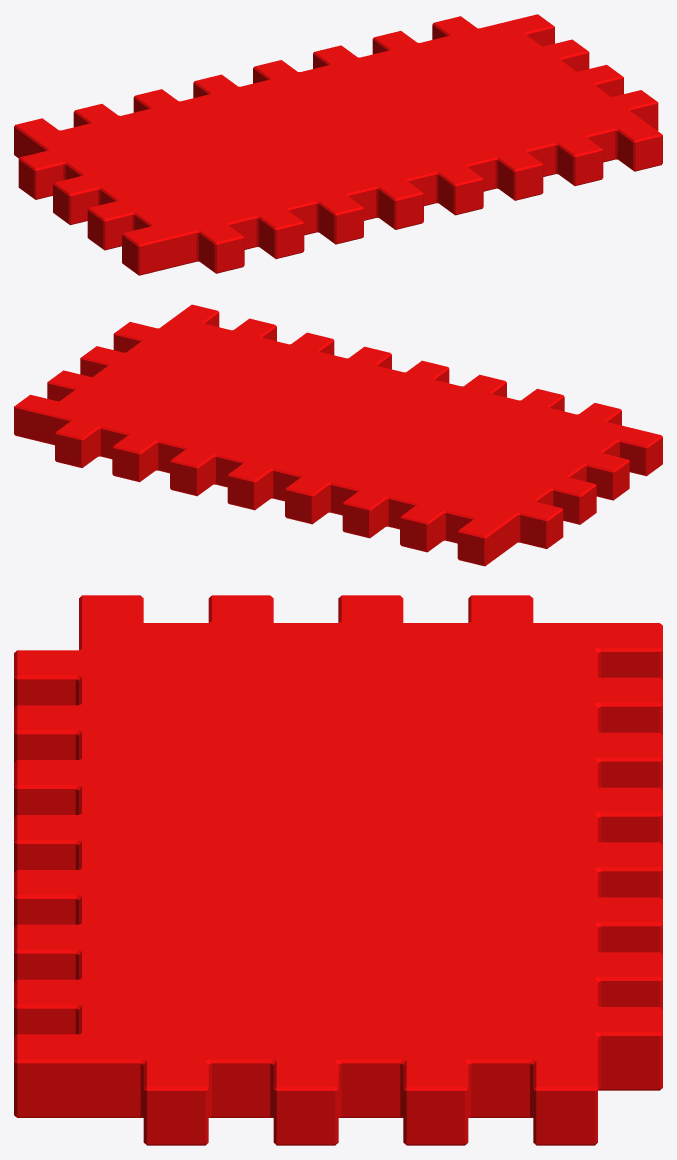
The model's file is RedRect.fbx.
3 views of the same model, one above another, from view 1: azimuth 30°, elevation 25°; view 2: azimuth 150°, elevation 25°; view 3: azimuth 270°, elevation 25° (orthographic). The views are drawn at different scales.
Parts seen in each view (by area): view 1: BlueRect; view 2: BlueRect; view 3: BlueRect.
Boxes of the visible parts, x1=… form: BlueRect: x1=14, y1=14, x2=662, y2=275; BlueRect: x1=14, y1=304, x2=662, y2=566; BlueRect: x1=14, y1=595, x2=662, y2=1145.
Size of the model in its own units: 9 by 0.5001 by 5.
